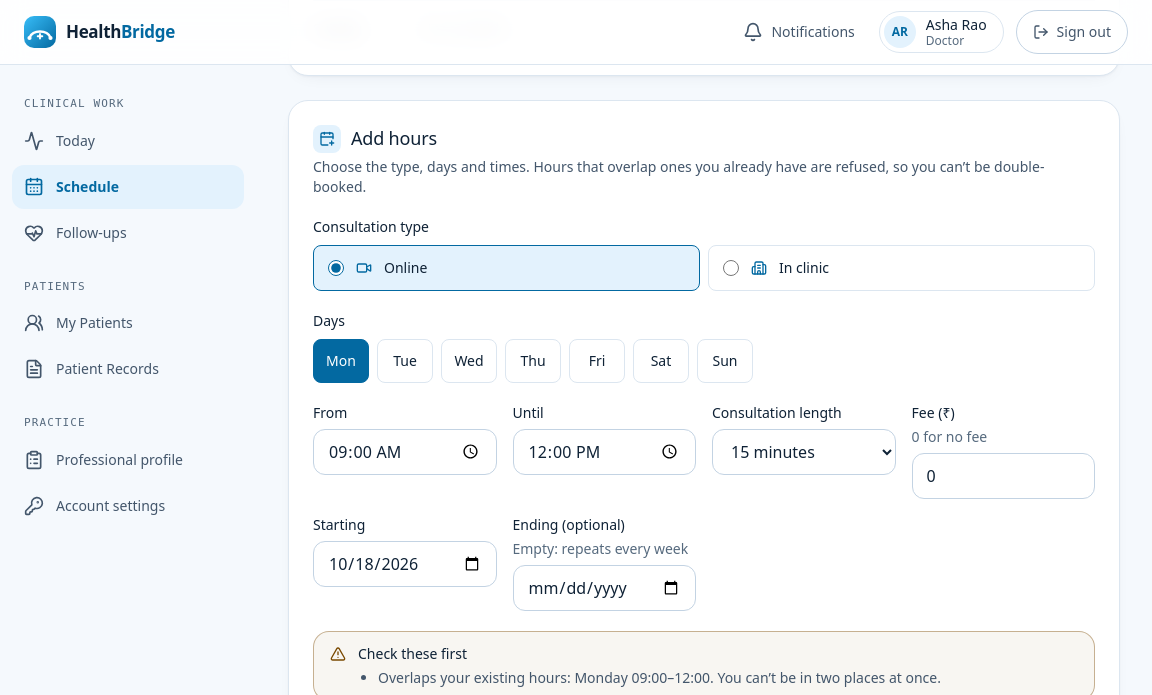
Test: doctor: hours and time off › refuses overlapping hours before sending, and adds one rule per chosen day
(page scrolled)
Expected: the list item "Overlaps your existing hours: Monday 09:00–12:00" is shown, 378,668 -> 941,687
Click the button named "Monday" at (341,361), box 313,339 -> 369,383
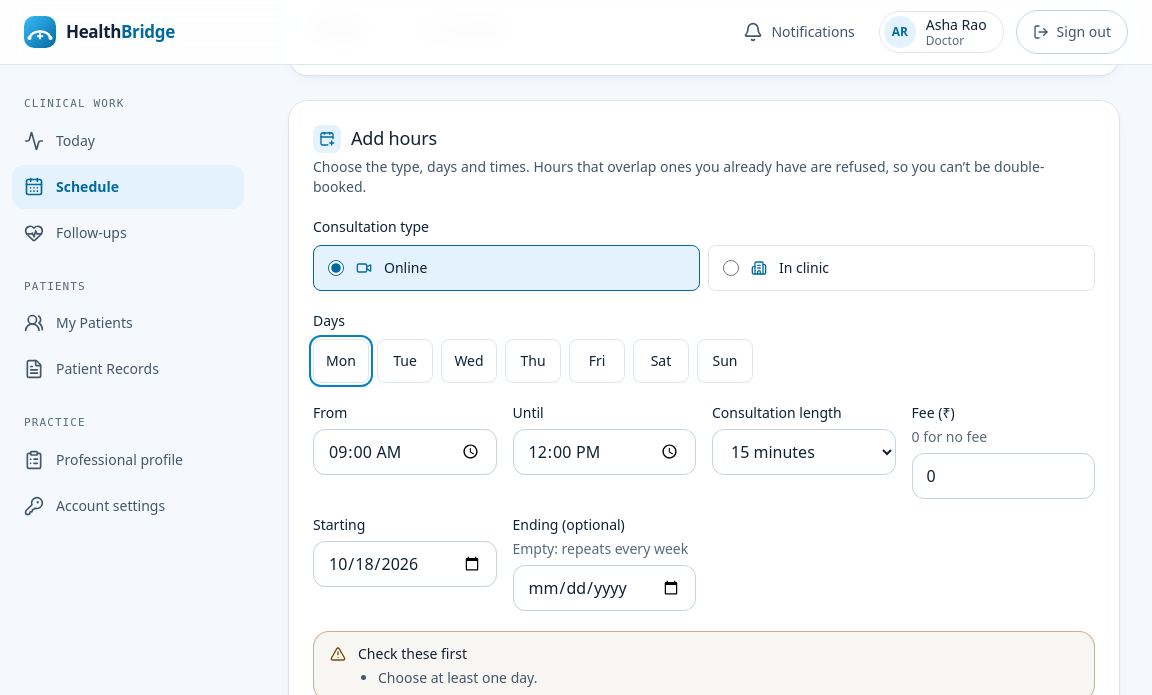
Click the button named "Tuesday" at (405,361), box 377,339 -> 433,383
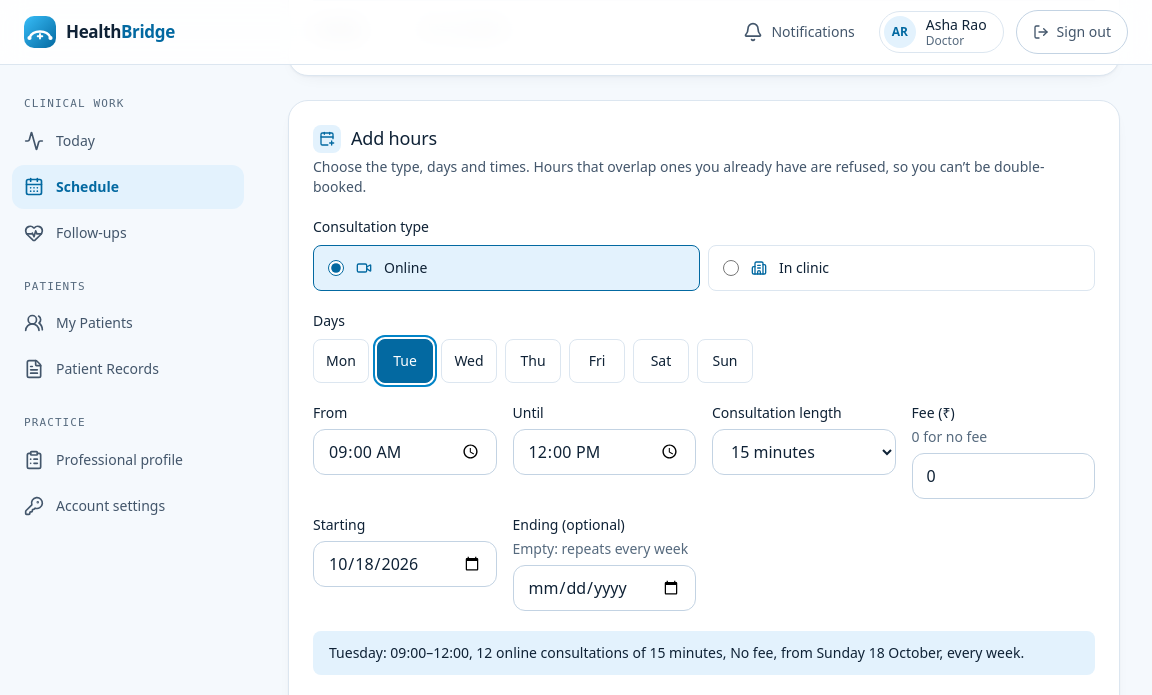
Click the button named "Thursday" at (533,361), box 505,339 -> 561,383
(page scrolled)
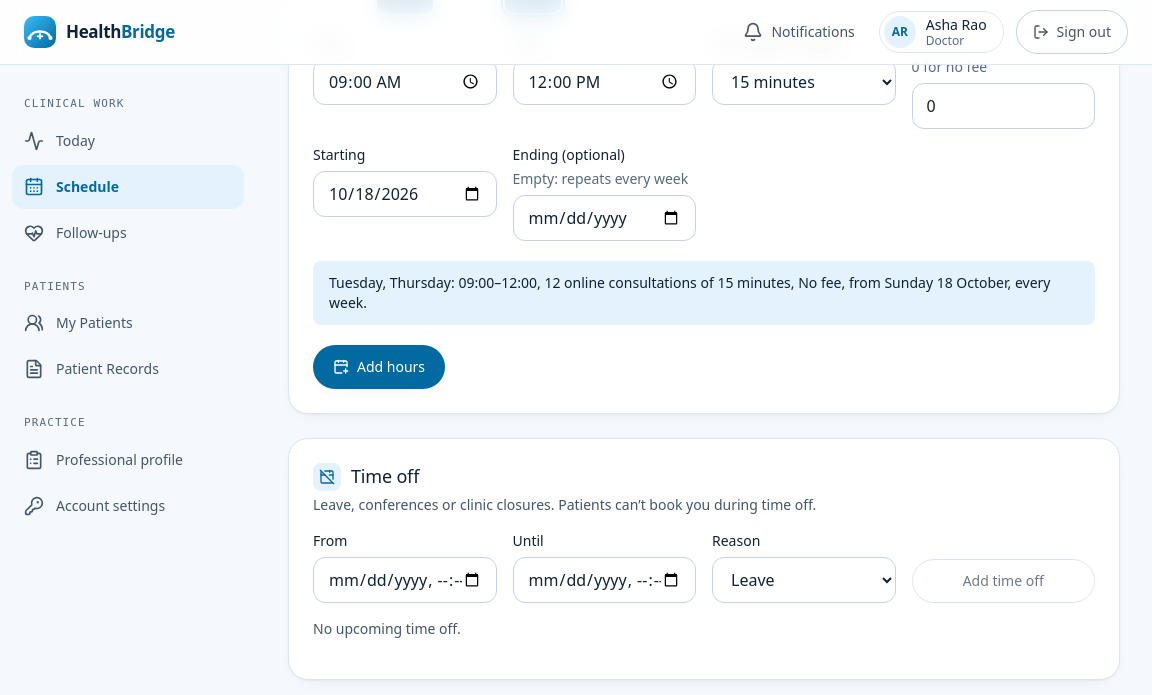
Expected: the list item "Overlaps your existing hours" is not shown
Click the button "Add hours" at (379,367), box 313,345 -> 445,389
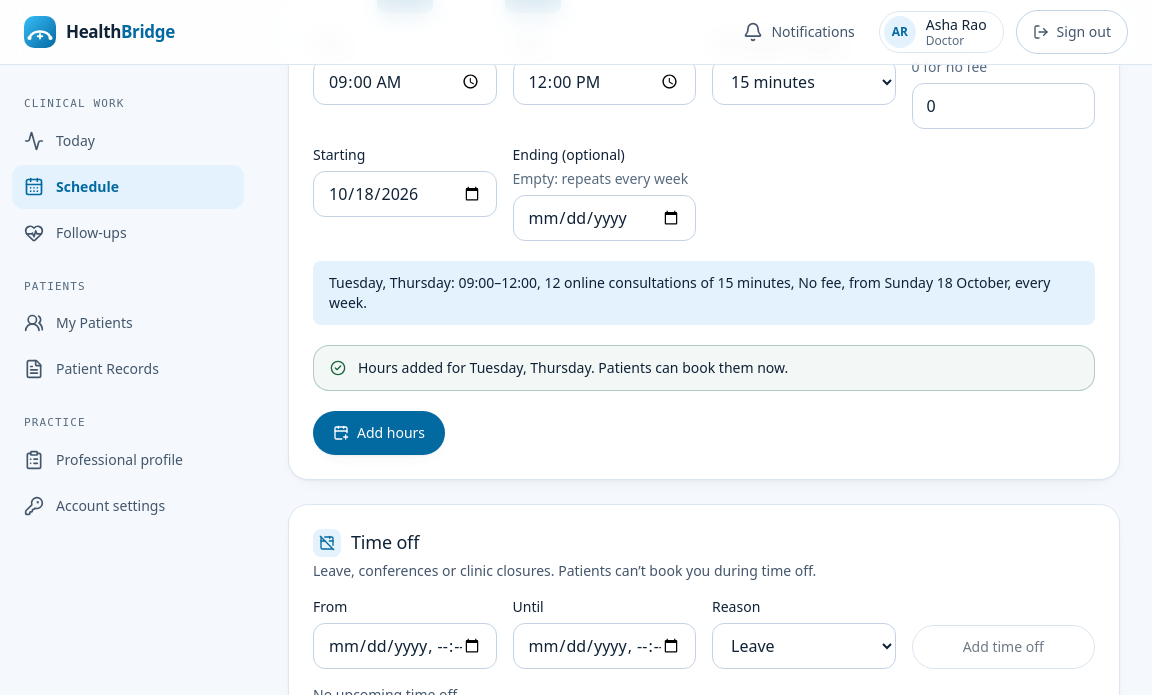
Result: the text "Hours added for Tuesday, Thursday" is shown at 358,358 -> 788,377
